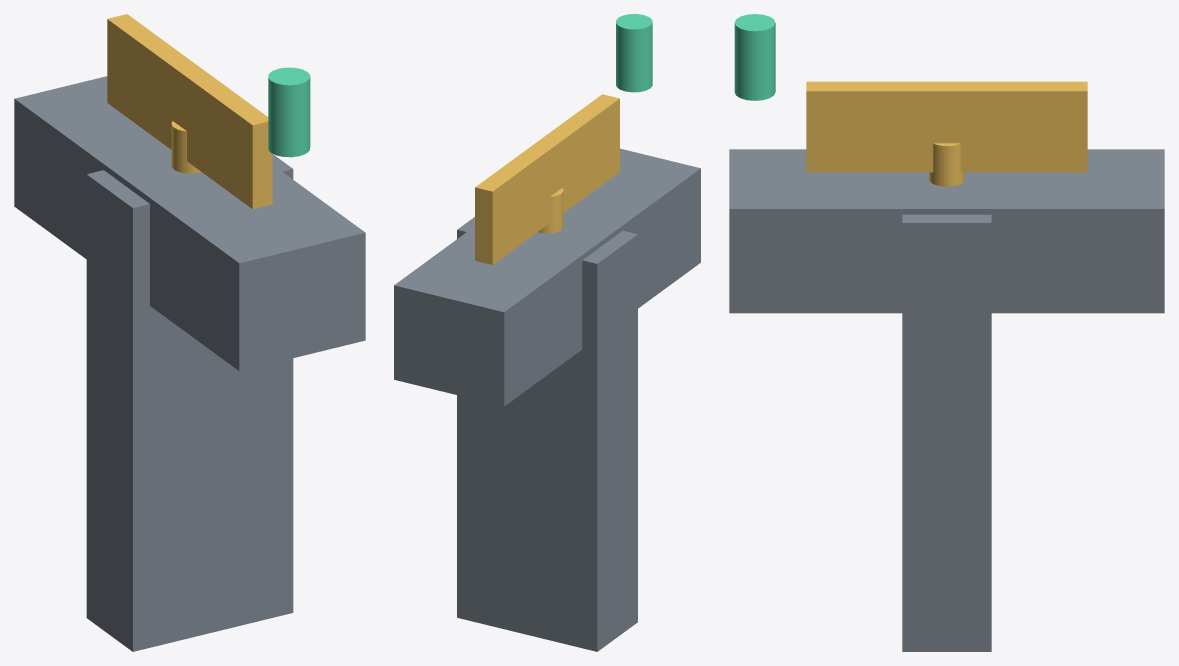
File: pneumatic-stopper.glb
3 views of the same model, side by side, from view 1: azimuth 30°, elevation 25°; view 2: azimuth 150°, elevation 25°; view 3: azimuth 270°, elevation 25° (orthographic). The views are drawn at different scales.
Parts seen in each view (by area): view 1: Cylinder_Mount_Frame, Piston_Stopper_Blade_Axis, Reed_Switch_Status_Lamp; view 2: Cylinder_Mount_Frame, Piston_Stopper_Blade_Axis, Reed_Switch_Status_Lamp; view 3: Cylinder_Mount_Frame, Piston_Stopper_Blade_Axis, Reed_Switch_Status_Lamp.
Boxes of the visible parts, box(x1,y1,x2,y2) form: Cylinder_Mount_Frame: box(14, 76, 365, 651); Piston_Stopper_Blade_Axis: box(107, 14, 272, 209); Reed_Switch_Status_Lamp: box(268, 67, 310, 157); Cylinder_Mount_Frame: box(394, 148, 700, 651); Piston_Stopper_Blade_Axis: box(475, 94, 619, 264); Reed_Switch_Status_Lamp: box(616, 14, 652, 92); Cylinder_Mount_Frame: box(729, 149, 1164, 651); Piston_Stopper_Blade_Axis: box(806, 81, 1087, 186); Reed_Switch_Status_Lamp: box(734, 14, 775, 100).
Size of the model in its own units: 0.28 by 1.02 by 0.68.
